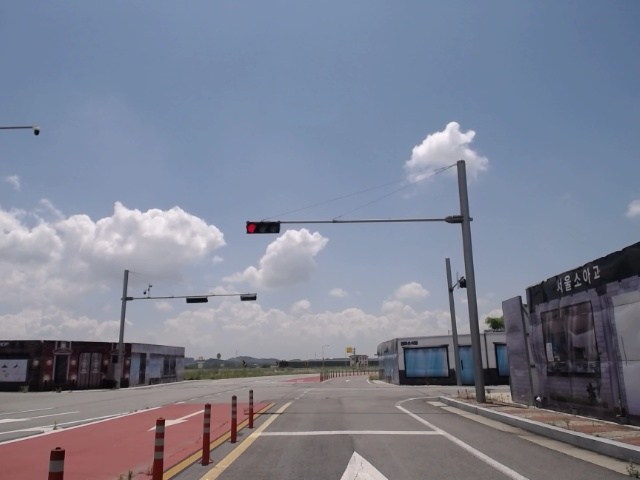red_3: (245, 220, 281, 233)
